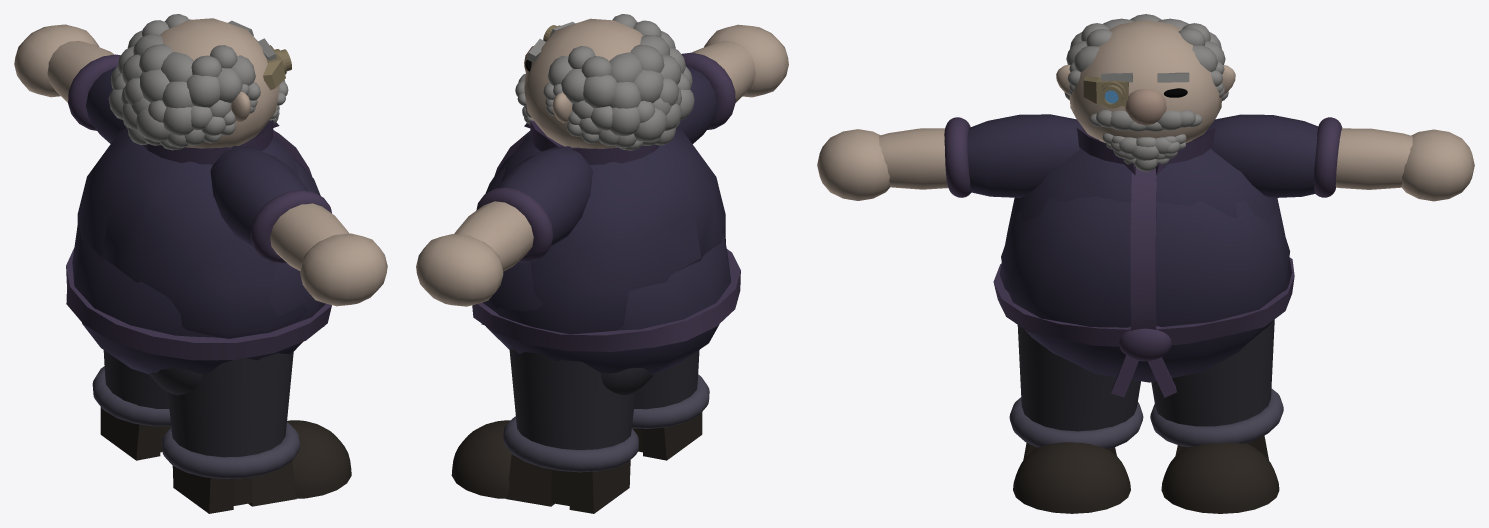
File: OLD MAN MODEL.fbx
3 views of the same model, side by side, from view 1: azimuth 30°, elevation 25°; view 2: azimuth 150°, elevation 25°; view 3: azimuth 270°, elevation 25° (orthographic).
Visible parts, largest first — view 1: polySurface151; view 2: polySurface151; view 3: polySurface151.
Part boxes in pixels (x1=…): polySurface151: x1=14, y1=14, x2=387, y2=513; polySurface151: x1=416, y1=14, x2=788, y2=513; polySurface151: x1=817, y1=14, x2=1474, y2=513.
Size of the model in its own units: 4.15 by 7.44 by 10.09.
